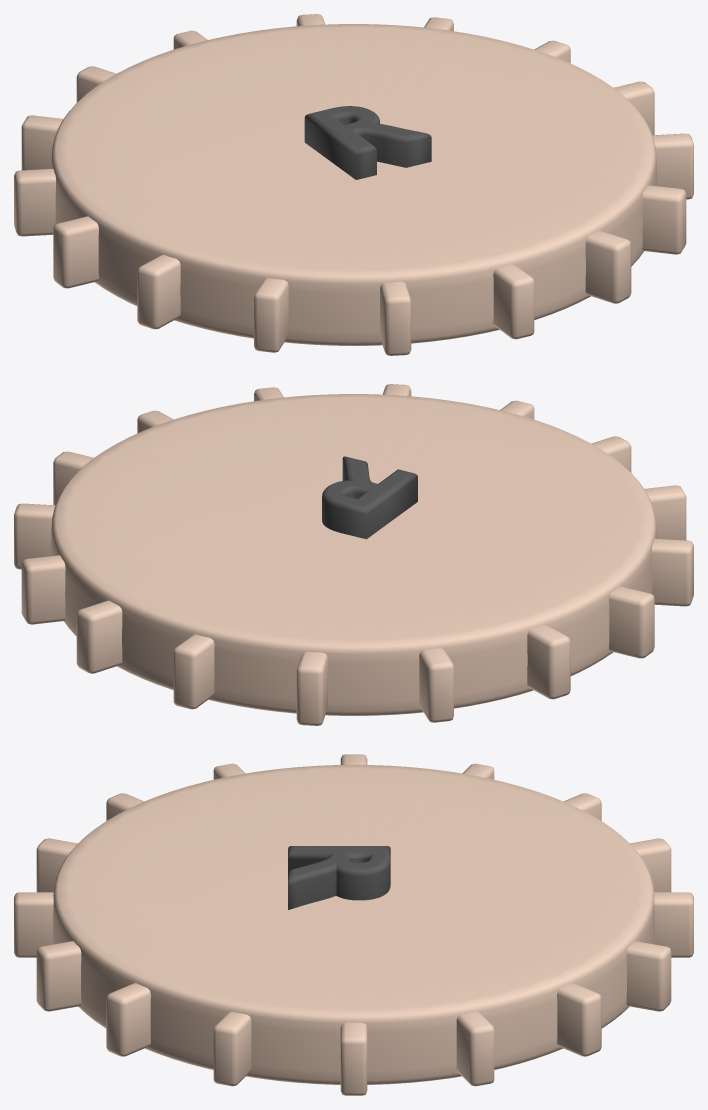
Rendered from rust.glb.
3 renders of one model, top to bottom at view 1: azimuth 30°, elevation 25°; view 2: azimuth 150°, elevation 25°; view 3: azimuth 270°, elevation 25°, orthographic.
Visible parts, largest first — view 1: Cylinder, Text, Cube.013, Cube.008, Cube.014, Cube.009, Cube.012, Cube.007, Cube.010, Cube.011, Cube.015, Cube.006 (+2 smaller); view 2: Cylinder, Text, Cube.003, Cube.008, Cube.002, Cube.007, Cube.004, Cube.009, Cube.006, Cube.005, Cube.001, Cube.010 (+2 smaller); view 3: Cylinder, Text, Cube.003, Cube.013, Cube.002, Cube.014, Cube.001, Cube.015, Cube.004, Cube.012, Cube, Cube.005 (+3 smaller).
Part boxes in pixels (x1,y1,x2,y2): Cylinder: (51, 24, 656, 345); Text: (304, 106, 431, 179); Cube.013: (585, 230, 631, 303); Cube.008: (53, 216, 98, 288); Cube.014: (642, 185, 686, 254); Cube.009: (137, 254, 180, 329); Cube.012: (493, 264, 534, 339); Cube.007: (14, 168, 55, 236); Cube.010: (254, 278, 288, 352); Cube.011: (380, 281, 411, 355); Cube.015: (652, 133, 693, 199); Cube.006: (21, 115, 63, 170); Cylinder: (51, 394, 656, 715); Text: (322, 456, 417, 539); Cube.003: (76, 600, 122, 673); Cube.008: (609, 586, 654, 658); Cube.002: (21, 555, 65, 624); Cube.007: (527, 624, 570, 699); Cube.004: (173, 634, 214, 709); Cube.009: (652, 538, 693, 606); Cube.006: (419, 648, 453, 722); Cube.005: (296, 651, 327, 725); Cube.001: (14, 503, 55, 569); Cube.010: (644, 485, 686, 540); Cylinder: (53, 765, 654, 1084); Text: (288, 846, 390, 909); Cube.003: (626, 941, 671, 1011); Cube.013: (36, 941, 81, 1011); Cube.002: (557, 983, 601, 1056); Cube.014: (106, 983, 150, 1056); Cube.001: (456, 1011, 494, 1086); Cube.015: (213, 1011, 251, 1086); Cube.004: (654, 892, 693, 957); Cube.012: (14, 892, 53, 957); Cube: (340, 1022, 367, 1095); Cube.005: (630, 838, 671, 892).
Size of the model in its own units: 1.01 by 0.168 by 1.01.
